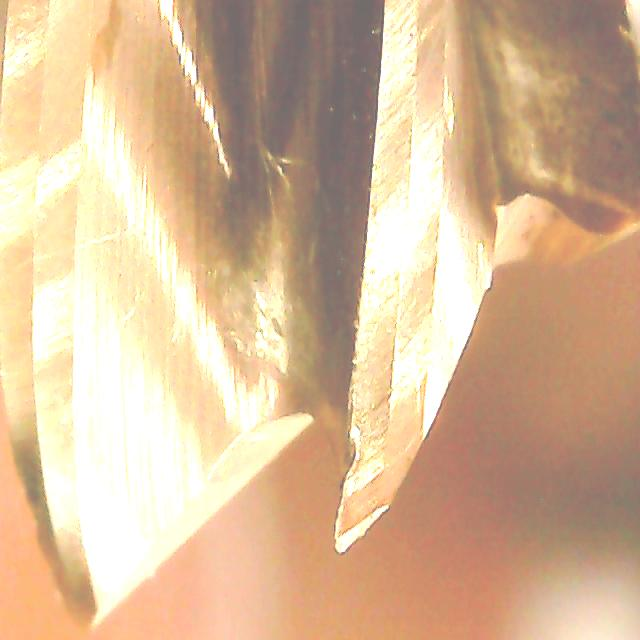Tool-wear-class-1: (320, 197, 483, 561)
